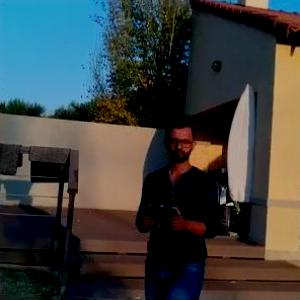follow: (130, 108, 222, 299)
